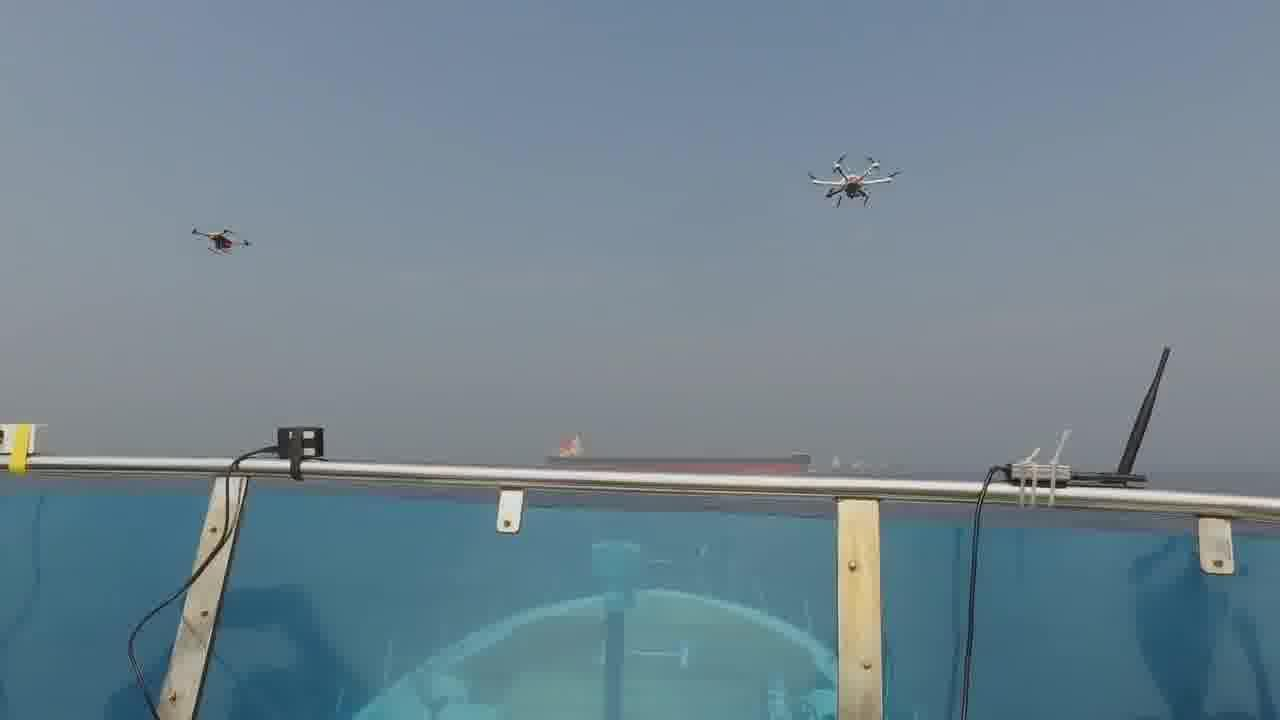drone: (186, 219, 254, 255)
